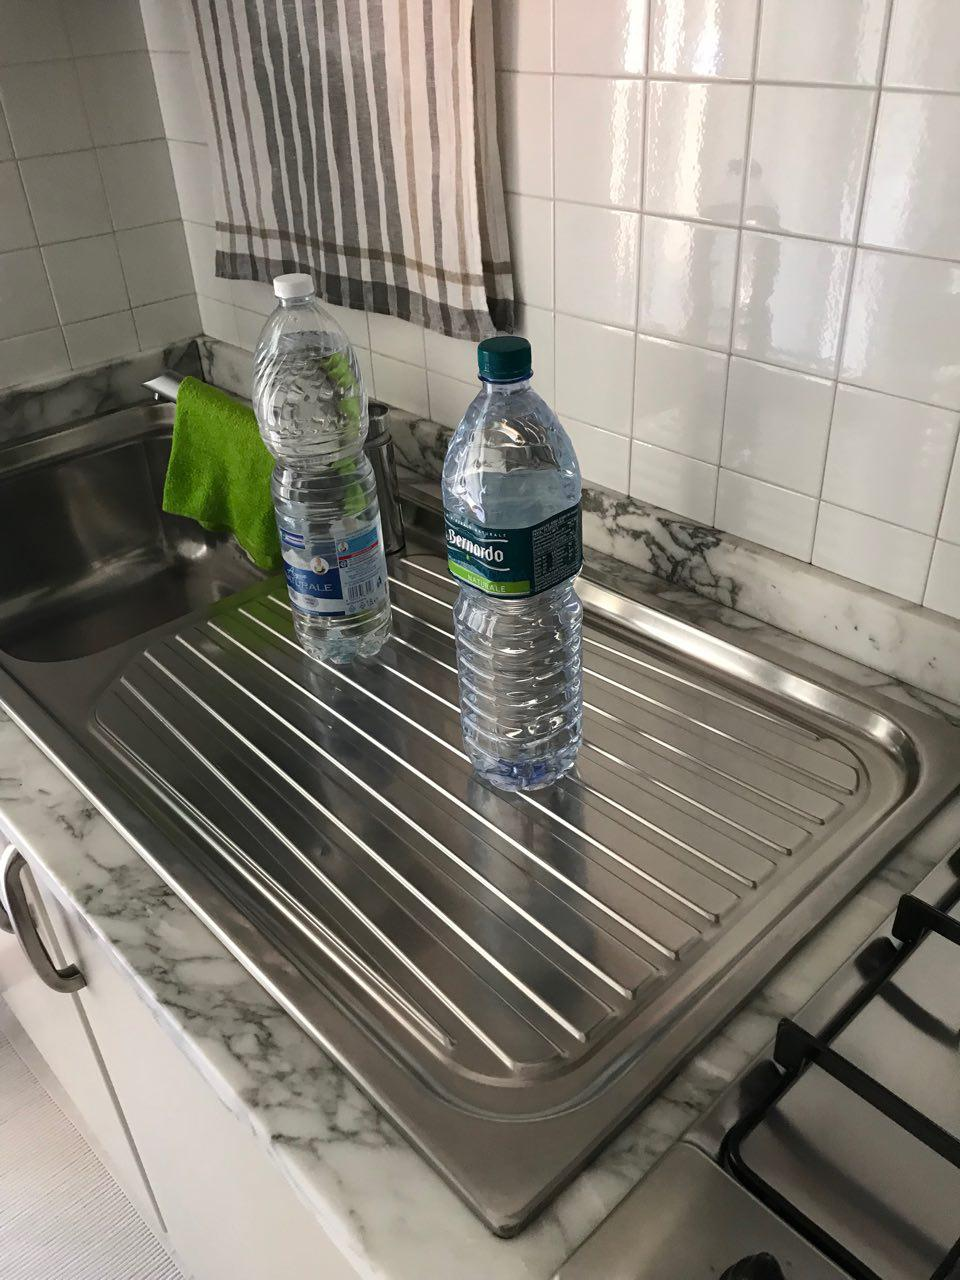san_bernardo: (440, 333, 585, 793)
